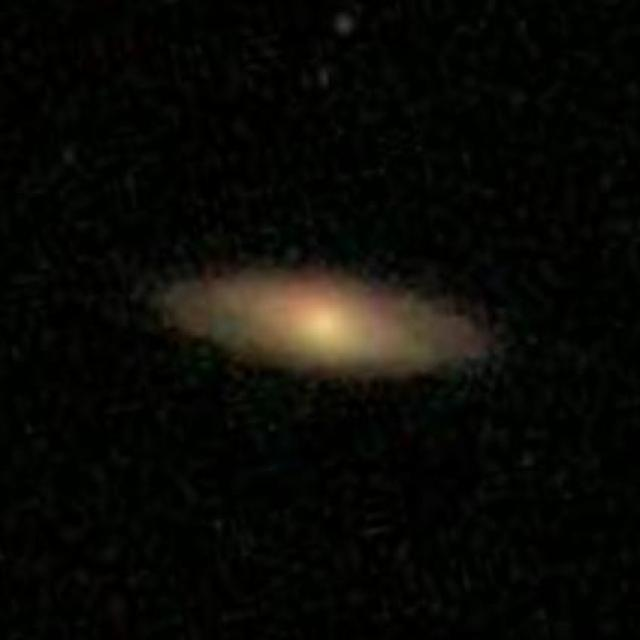galaxy: (146, 250, 525, 419), (329, 14, 358, 35)
